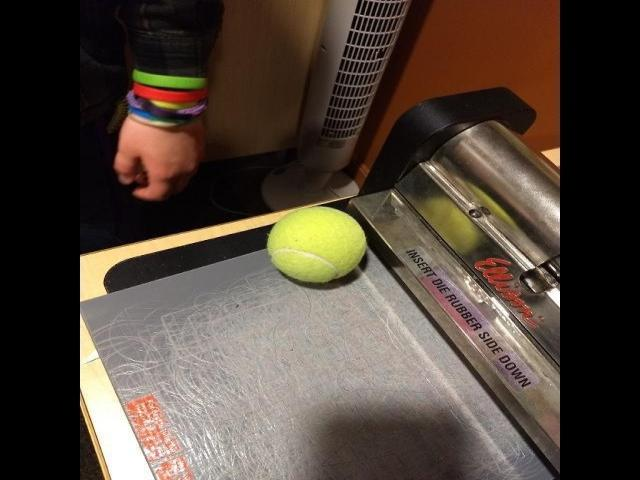tennis-ball: (266, 206, 368, 284)
